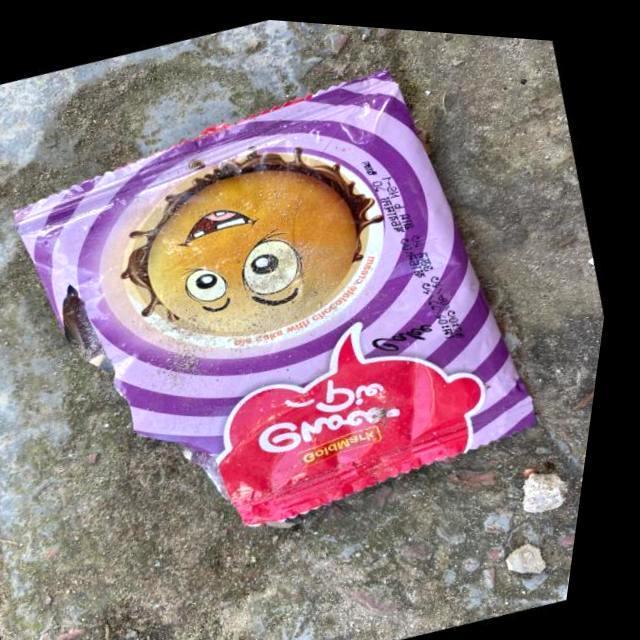packet: (13, 54, 542, 565)
